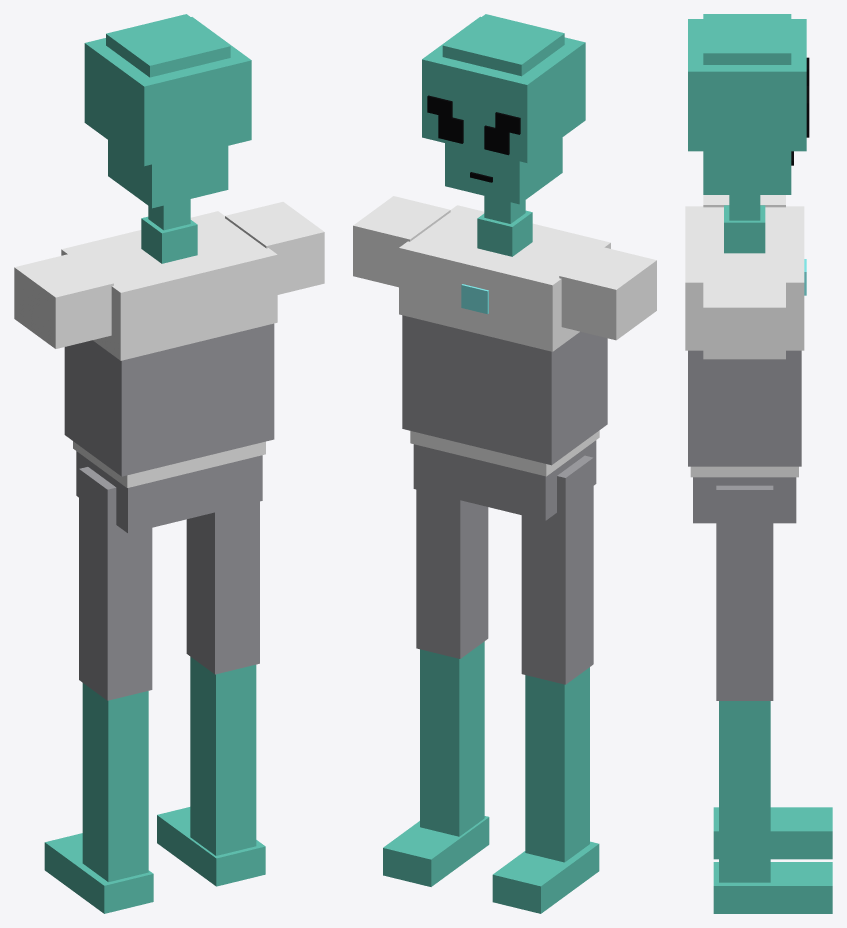
The model's file is ALIEN.gltf.
The picture shows the model from 3 angles, left to right: view 1: azimuth 30°, elevation 25°; view 2: azimuth 150°, elevation 25°; view 3: azimuth 270°, elevation 25°; orthographic projection. The views are drawn at different scales.
Visible parts, largest first — view 1: ALIEN; view 2: ALIEN; view 3: ALIEN.
Boxes of the visible parts, x1,y1,x2,y2 form: ALIEN: (14, 14, 324, 913); ALIEN: (353, 14, 656, 913); ALIEN: (685, 14, 832, 913).
Size of the model in its own units: 0.6 by 1.79 by 0.285.
